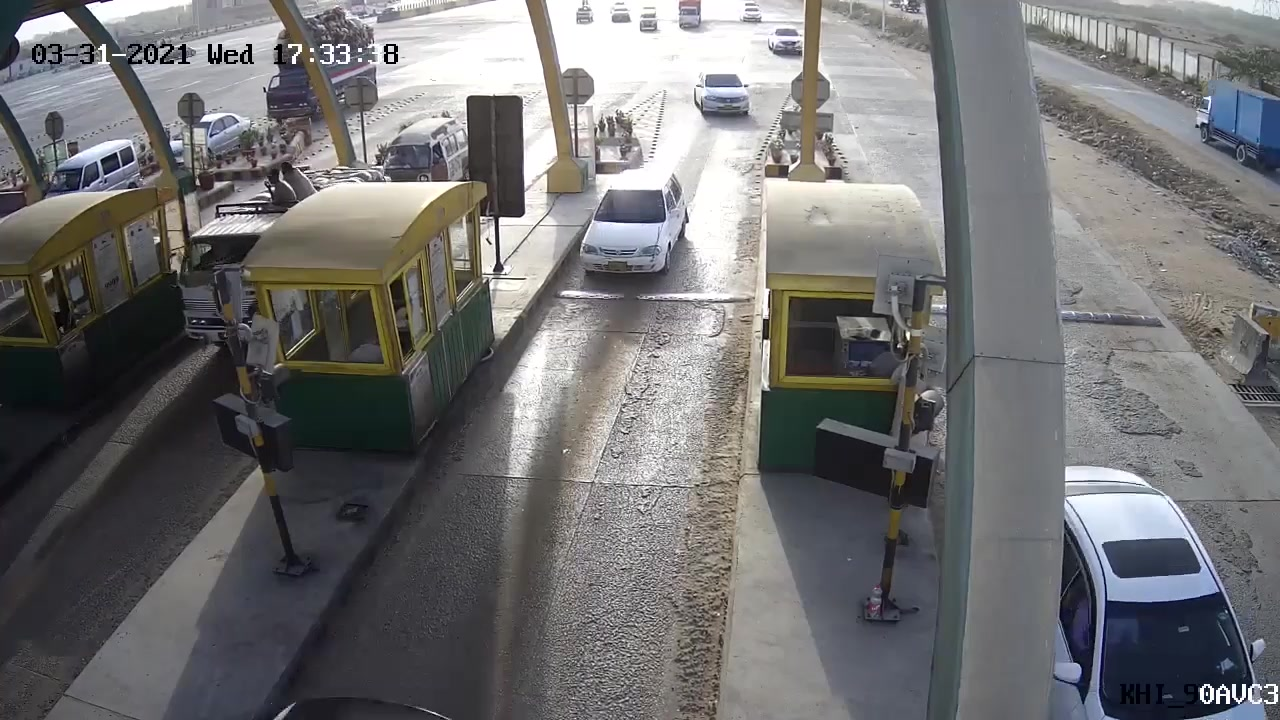F1: (572, 166, 682, 300)
